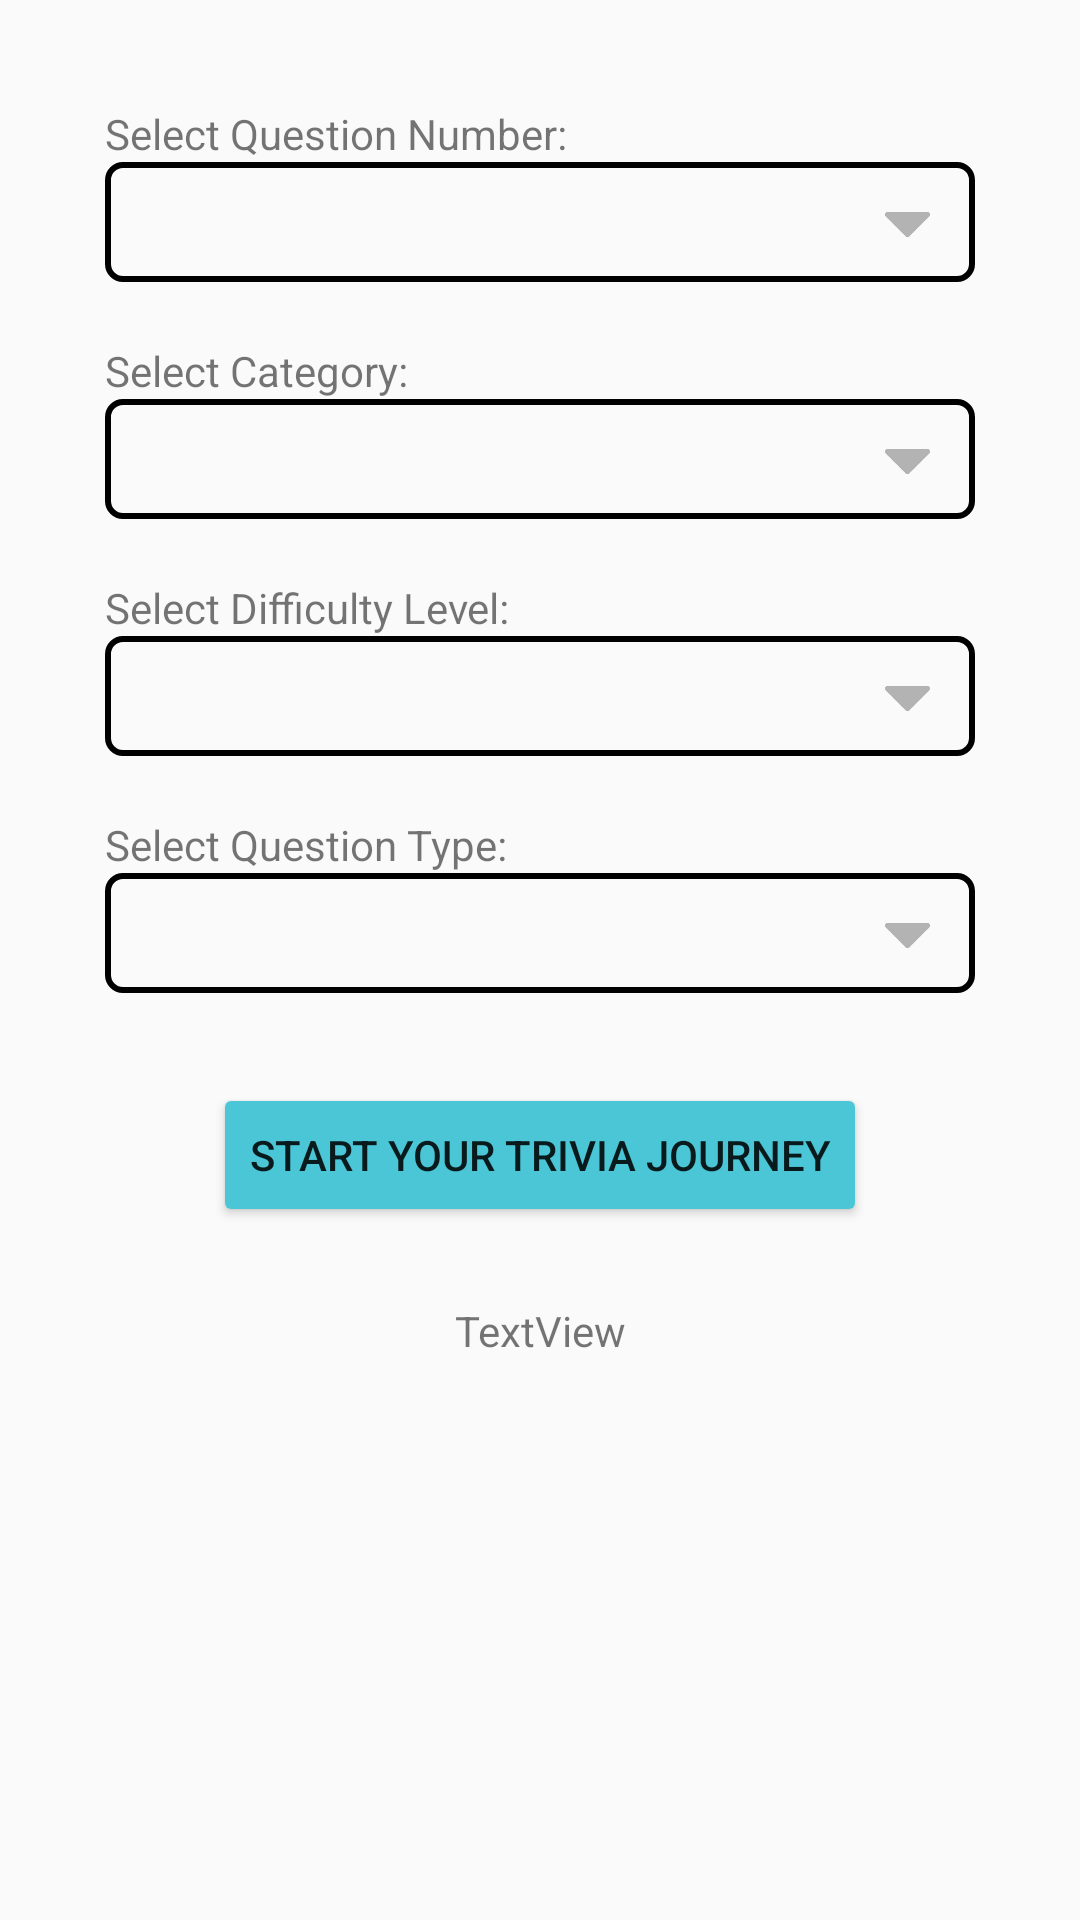

Locate icon controls on the screen. Image size 1080px×1920px, boxes as (x1, y1, x2, y2).
down: (885, 212, 930, 237), (885, 449, 930, 474), (885, 686, 930, 711), (885, 923, 930, 948)
